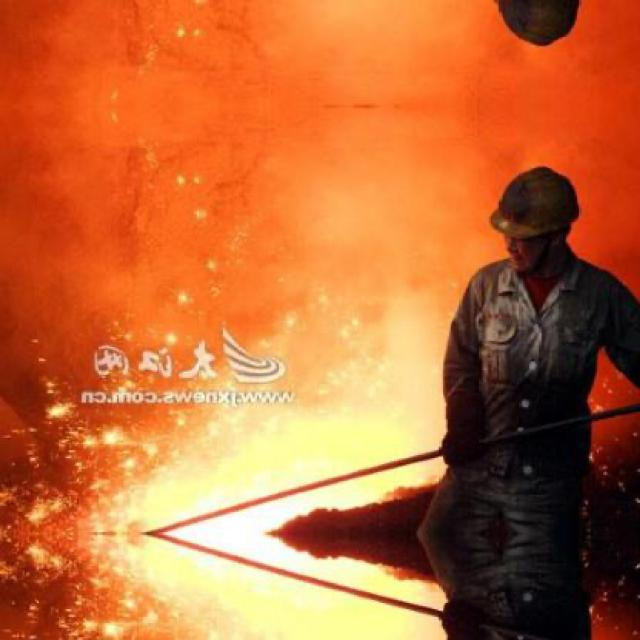con casco: (443, 149, 605, 327)
